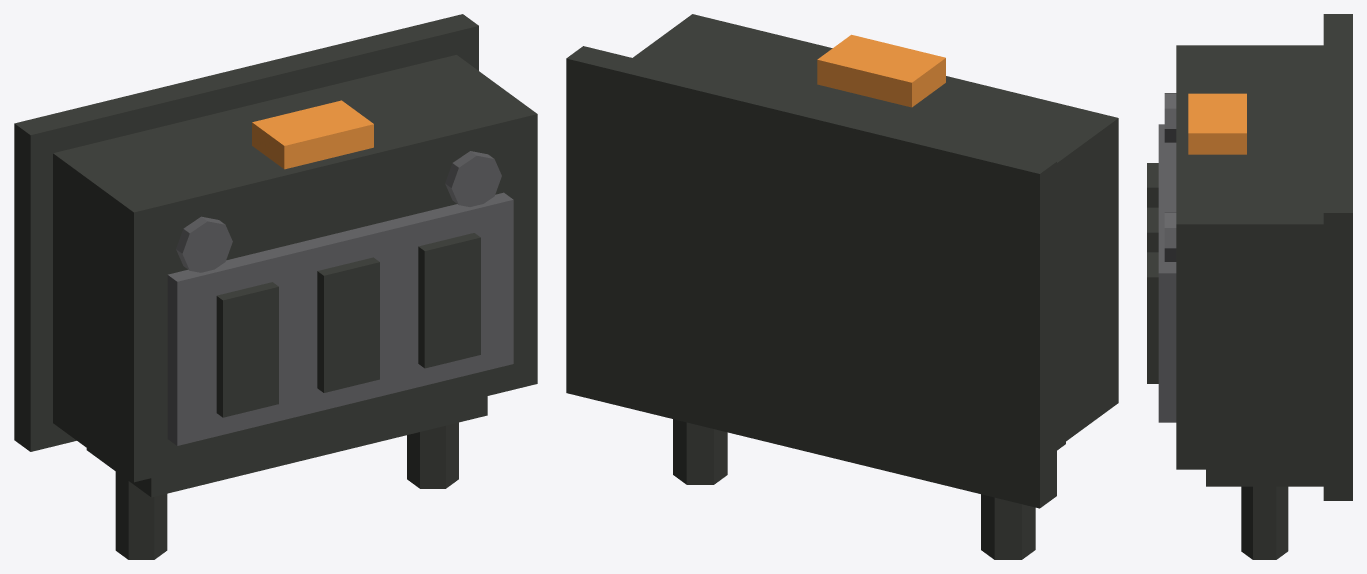
Rendered from life_support_unit.obj.
3 renders of one model, left to right at view 1: azimuth 30°, elevation 25°; view 2: azimuth 150°, elevation 25°; view 3: azimuth 270°, elevation 25°, orthographic. The views are drawn at different scales.
Visible parts, largest first — view 1: life_support_unit; view 2: life_support_unit; view 3: life_support_unit.
Boxes of the visible parts, x1,y1,x2,y2 form: life_support_unit: (14, 14, 537, 559); life_support_unit: (566, 14, 1118, 559); life_support_unit: (1147, 14, 1352, 559).
Bounding box in the file's own units: 0.8 × 0.7 × 0.35.
